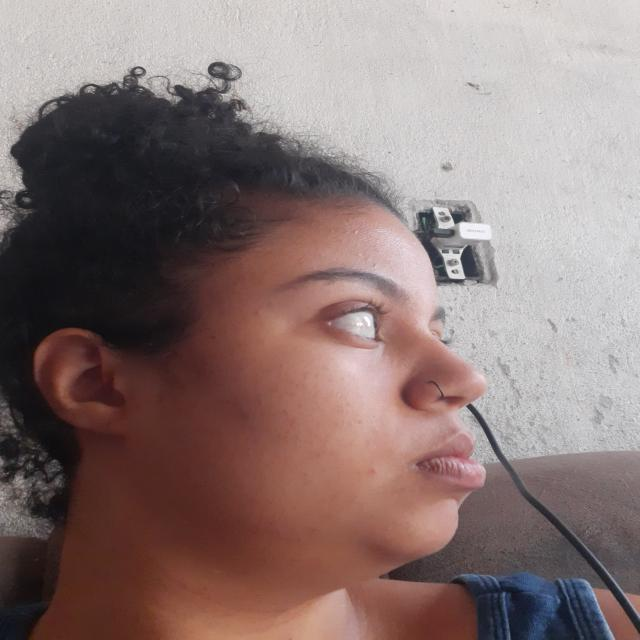Acne: (341, 454, 394, 492)
